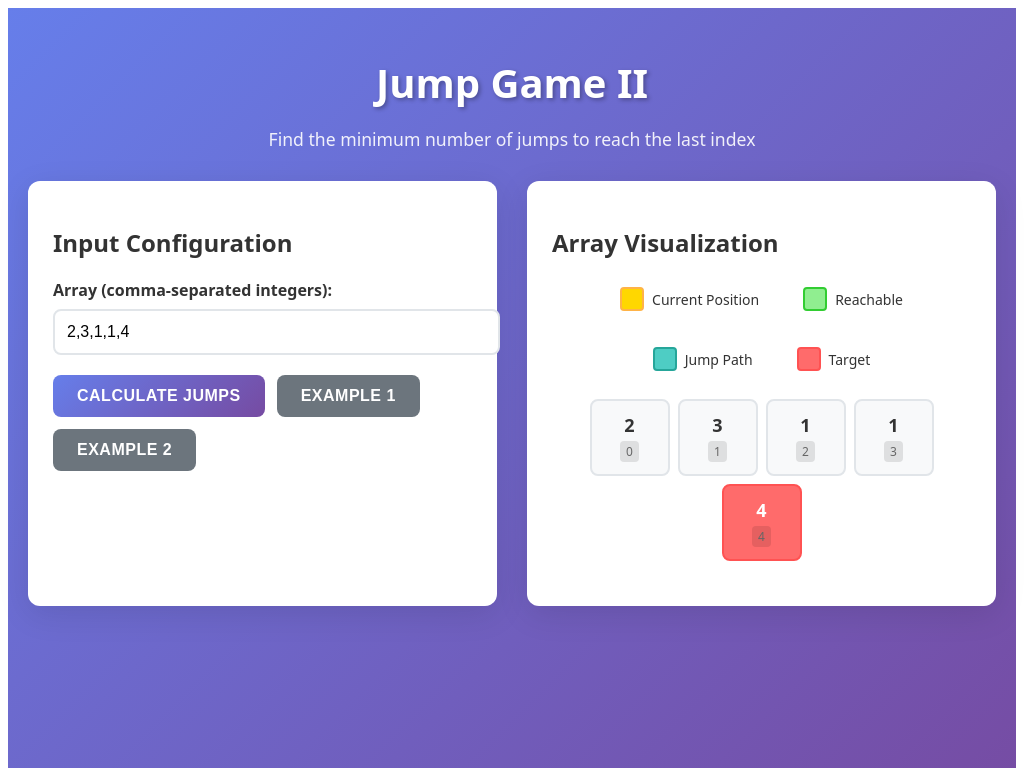
Test case: JumpGame Component › loads example 2 correctly
The image size is (1024, 768).
Click the button with test id "example2-btn". click: (125, 450)
box: [53,429,196,471]
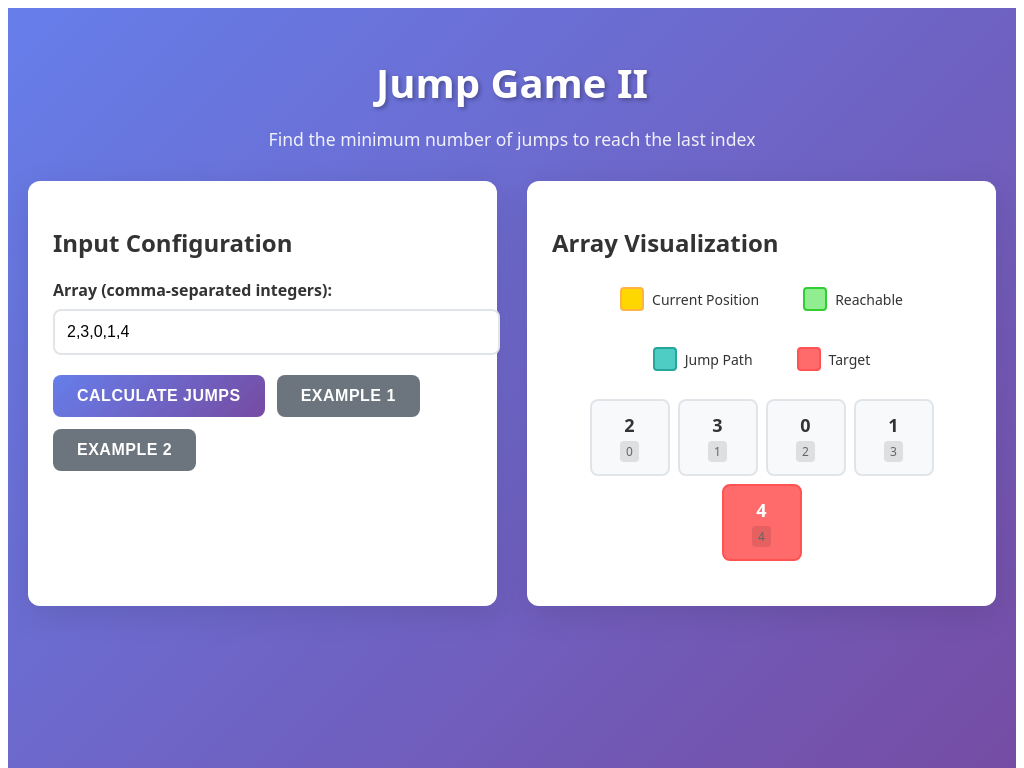
Now the field with test id "array-input" holds "2,3,0,1,4", box [53,309,500,355]
